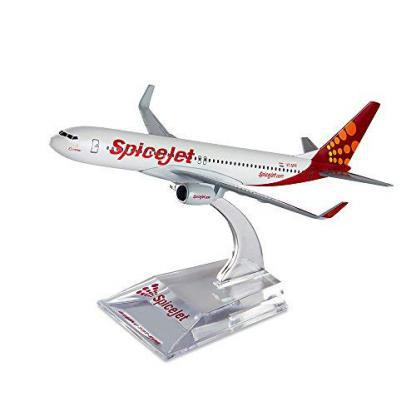CIV_Plane: (41, 81, 394, 255)
